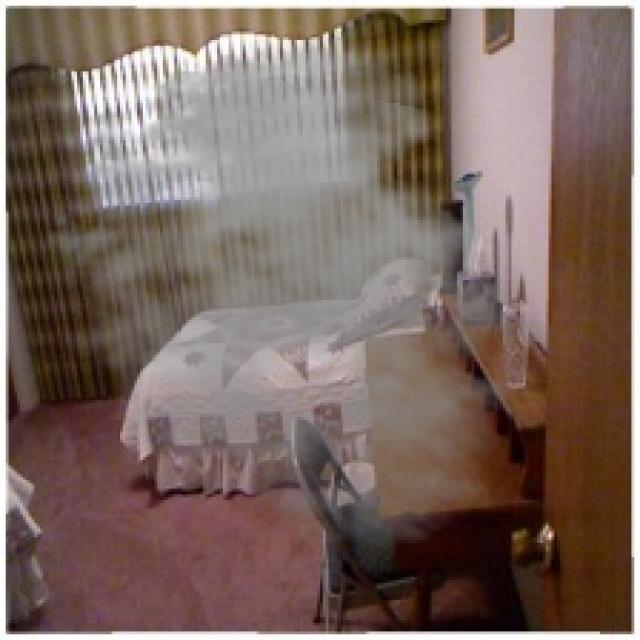Smoke: (26, 29, 566, 552)
